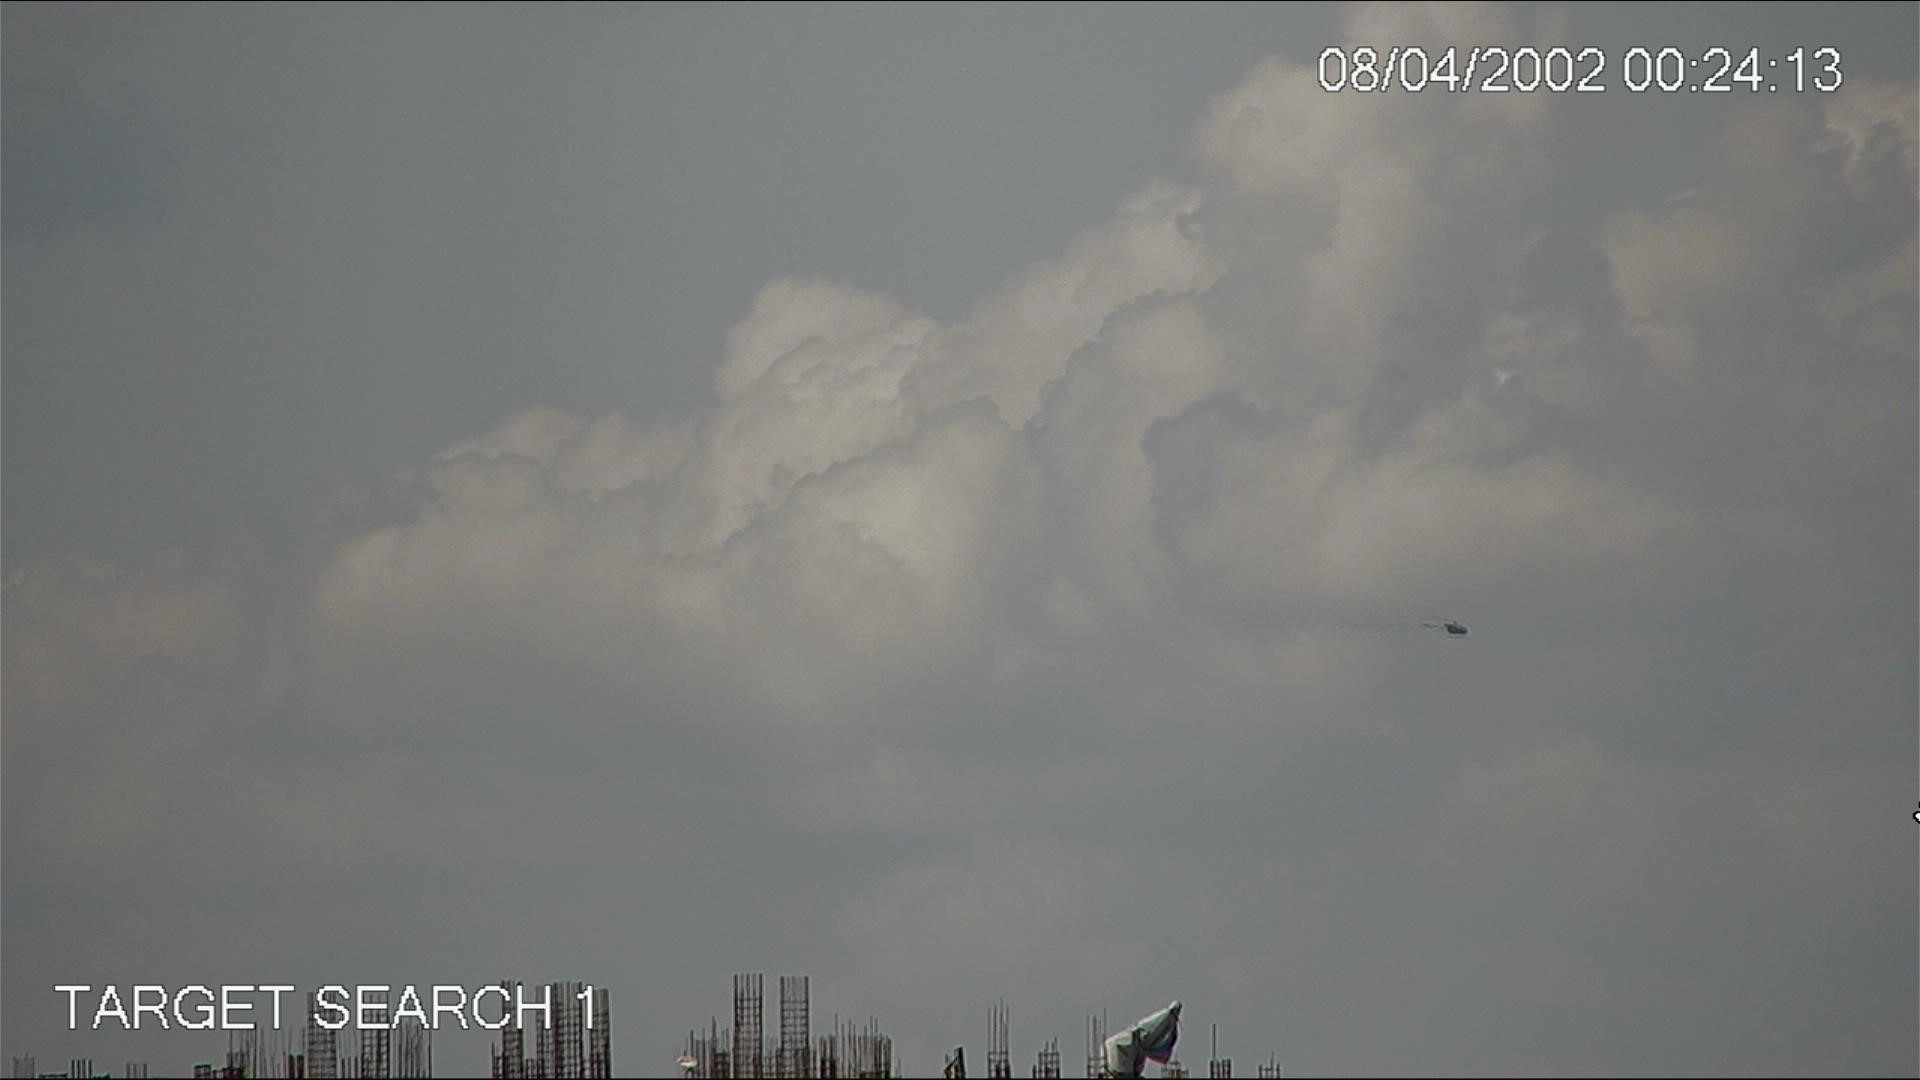SU_30: (1414, 613, 1472, 641)
